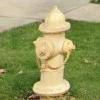a fire hydrant: (34, 7, 73, 98)
